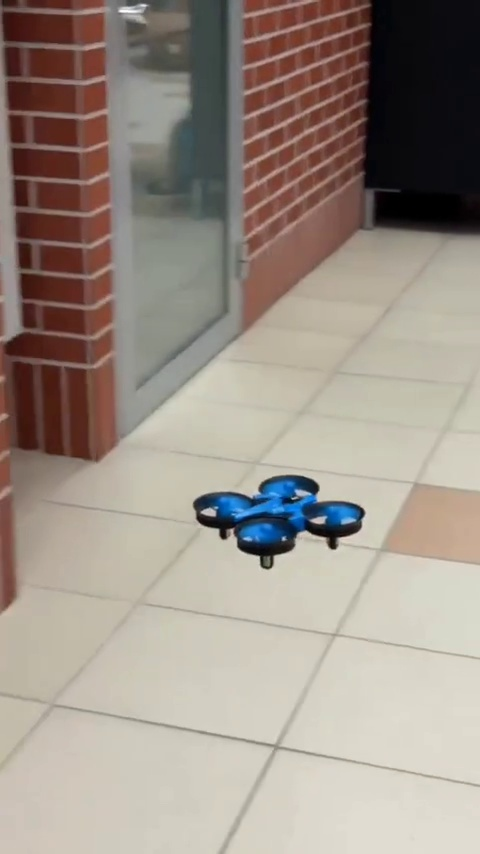drone: (194, 470, 370, 574)
